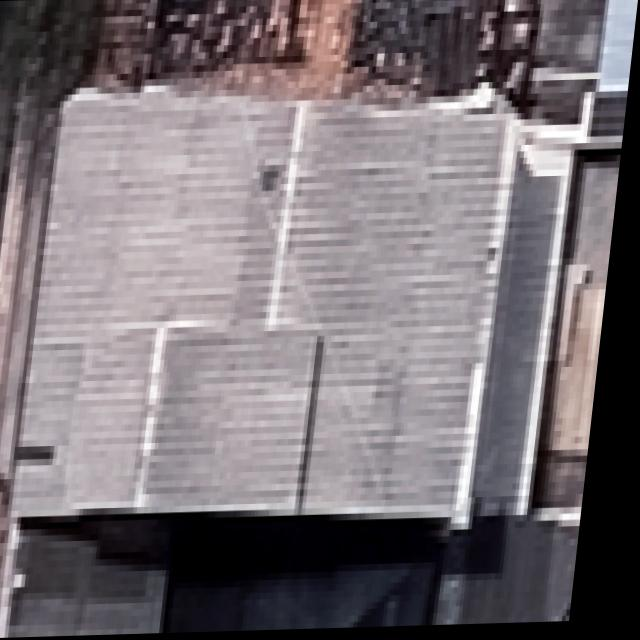Batiment: (24, 95, 522, 521)
